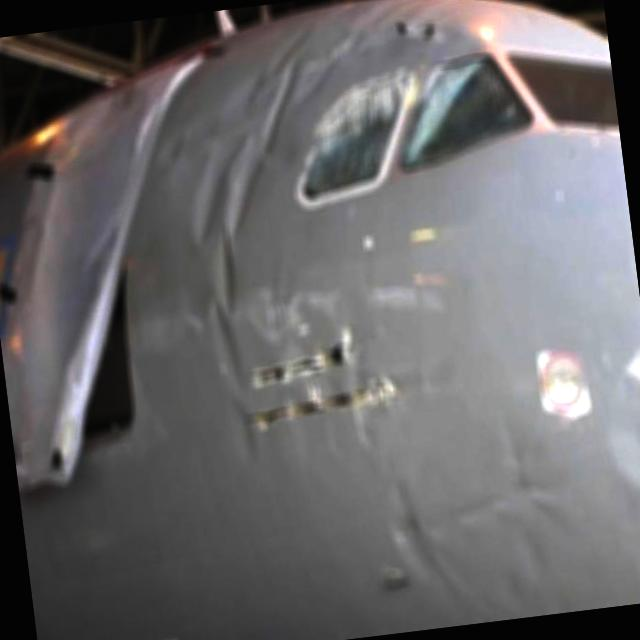crack: (233, 332, 417, 441)
